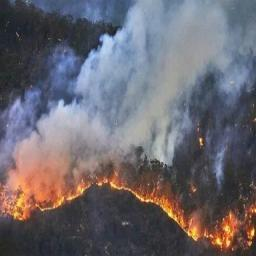Heavy smoke: (14, 1, 256, 173)
Medium fire: (1, 173, 256, 251)
